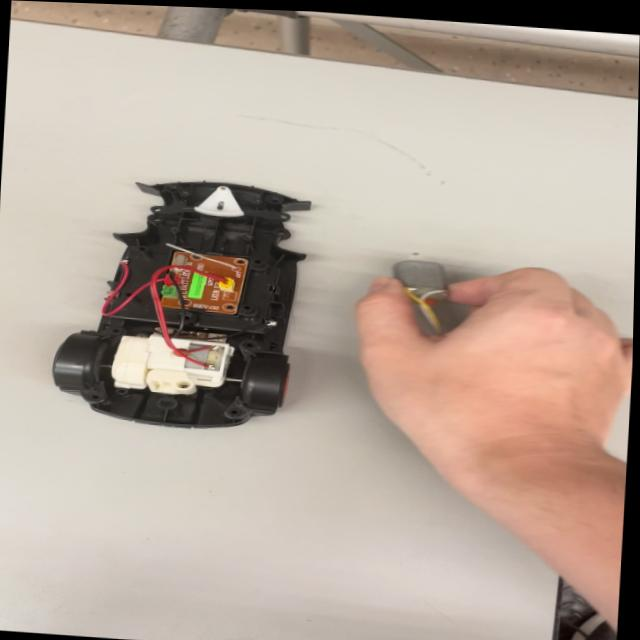Chassis: (59, 164, 311, 440)
motor: (384, 252, 455, 314)
